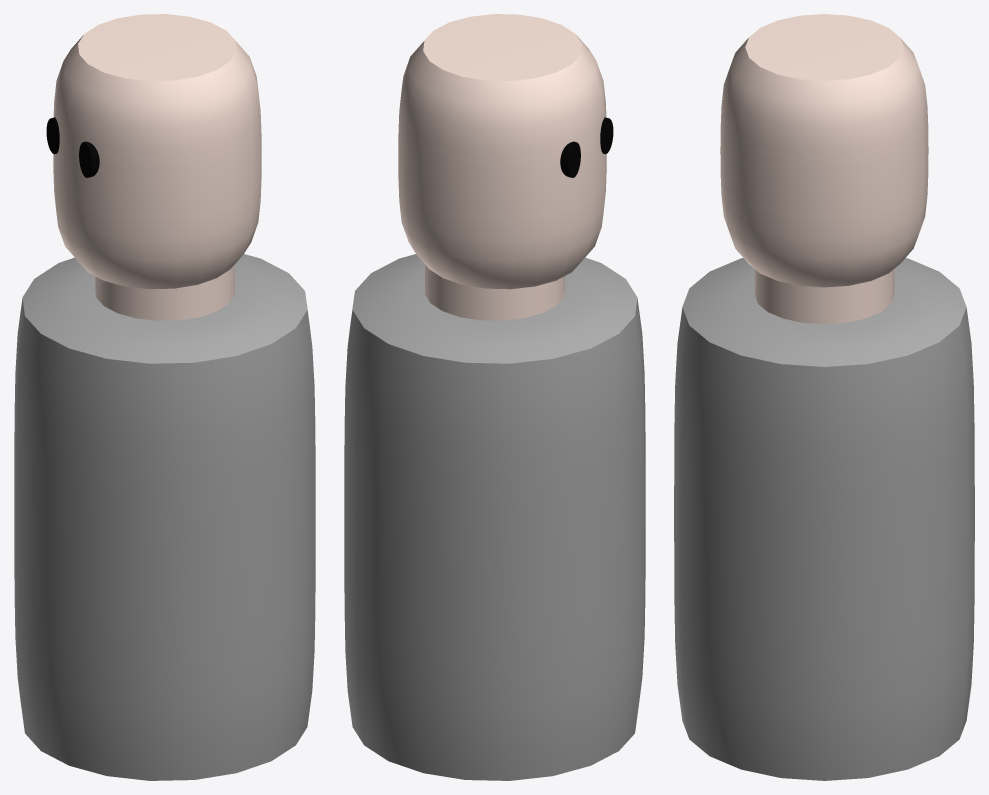
Rendered from body.fbx.
3 views of the same model, side by side, from view 1: azimuth 30°, elevation 25°; view 2: azimuth 150°, elevation 25°; view 3: azimuth 270°, elevation 25° (orthographic).
Parts seen in each view (by area): view 1: pCylinder2, pCylinder1, pCylinder3, pCylinder16; view 2: pCylinder2, pCylinder1, pCylinder3, pCylinder15; view 3: pCylinder2, pCylinder1, pCylinder3.
Part boxes in pixels (x1,y1,x2,y2): pCylinder2: (14, 254, 315, 780); pCylinder1: (53, 14, 261, 289); pCylinder3: (95, 264, 234, 320); pCylinder16: (79, 141, 99, 177); pCylinder2: (344, 254, 645, 780); pCylinder1: (398, 14, 606, 289); pCylinder3: (425, 264, 564, 320); pCylinder15: (560, 141, 580, 177); pCylinder2: (674, 258, 974, 780); pCylinder1: (720, 14, 928, 287); pCylinder3: (754, 269, 894, 324).
Size of the model in its own units: 2.03 by 5.09 by 2.03.
